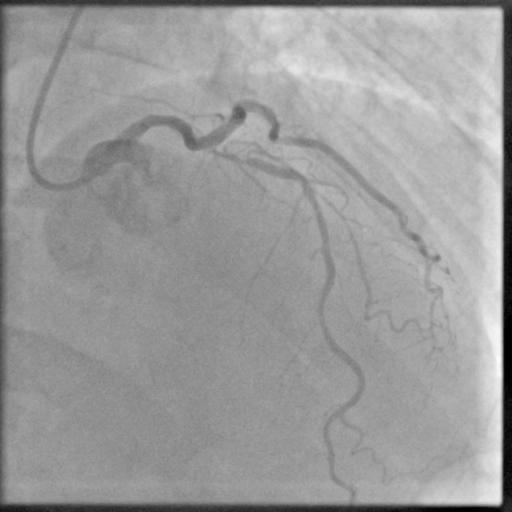Stenosis: (213, 142, 260, 169)
